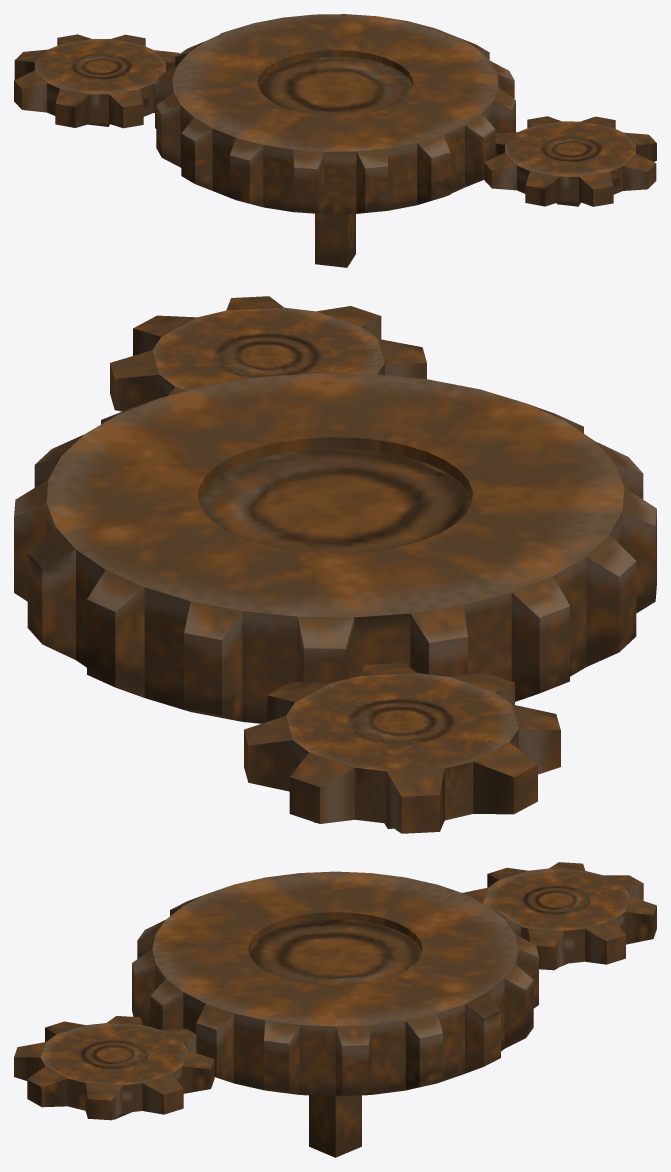
Rendered from engranajes_ajustes.fbx.
The picture shows the model from 3 angles, top to bottom: view 1: azimuth 30°, elevation 25°; view 2: azimuth 150°, elevation 25°; view 3: azimuth 270°, elevation 25°; orthographic projection. The views are drawn at different scales.
Visible parts, largest first — view 1: engranaje grande, Engranaje peq 1, engranaje peq 2, Cylinder.002; view 2: engranaje grande, engranaje peq 2, Engranaje peq 1; view 3: engranaje grande, Engranaje peq 1, engranaje peq 2, Cylinder.002.
Part boxes in pixels (bbox=[...]): engranaje grande: bbox=[155, 14, 515, 214]; Engranaje peq 1: bbox=[484, 116, 656, 206]; engranaje peq 2: bbox=[14, 34, 179, 128]; Cylinder.002: bbox=[315, 213, 355, 267]; engranaje grande: bbox=[14, 373, 656, 723]; engranaje peq 2: bbox=[244, 663, 560, 833]; Engranaje peq 1: bbox=[110, 296, 426, 411]; engranaje grande: bbox=[132, 871, 538, 1096]; Engranaje peq 1: bbox=[14, 1016, 214, 1120]; engranaje peq 2: bbox=[463, 862, 656, 970]; Cylinder.002: bbox=[309, 1095, 361, 1157].
Size of the model in its own units: 351 by 302 by 119.
1 material, 1 textured.
